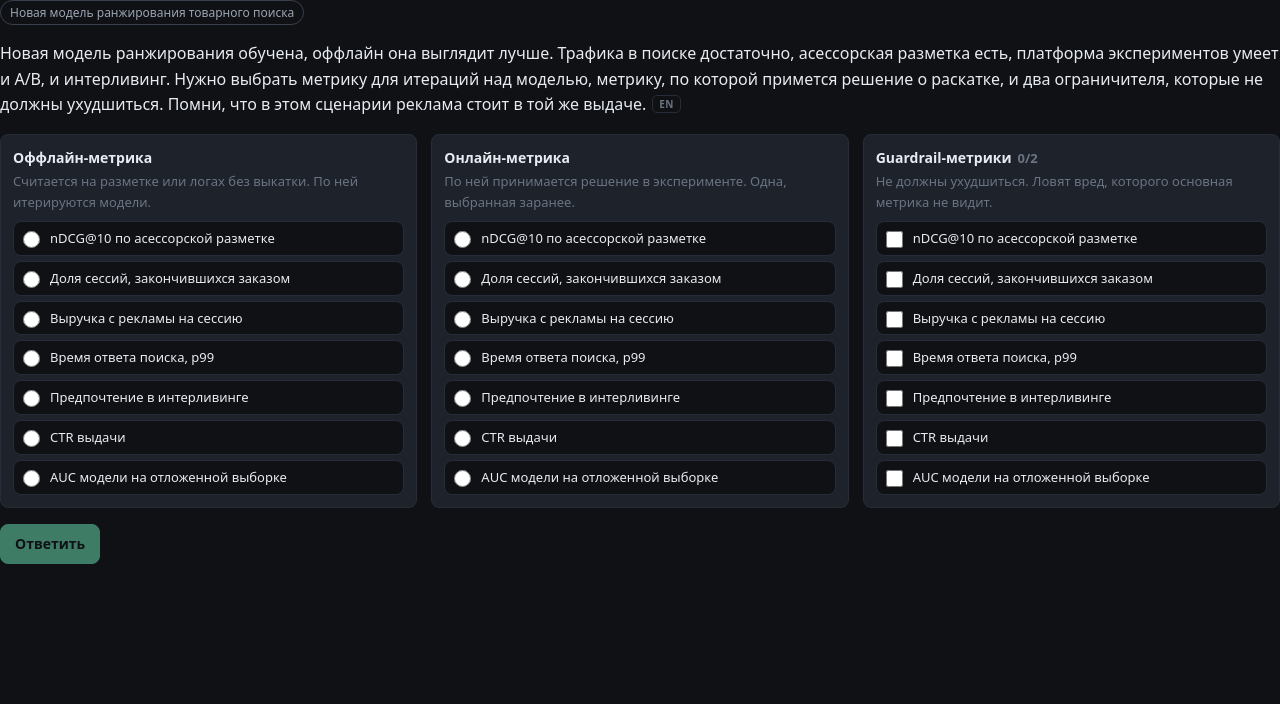
Test case: metric choice trainer › rejects a distractor and explains every option afterwards
The width and height of the screenshot is (1280, 704).
What coordinates should you click on to do the following:
click the radio button labelled "Предпочтение в интерливинге" below "Оффлайн-метрика"
I would click on:
 (32, 399)
Its box is [23,390,40,407].
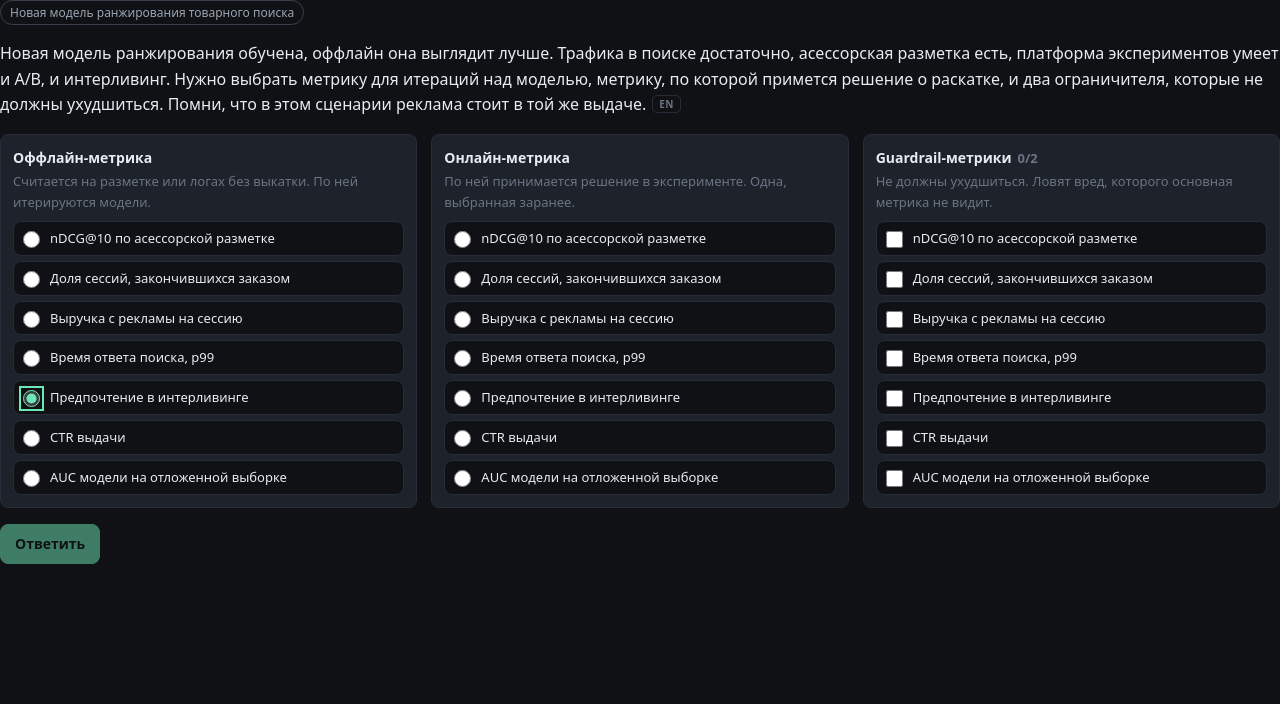
What coordinates should you click on to do the following:
click the radio button labelled "Доля сессий, закончившихся заказом" below "Онлайн-метрика"
I would click on:
 (463, 279)
Its box is [454,271,471,288].
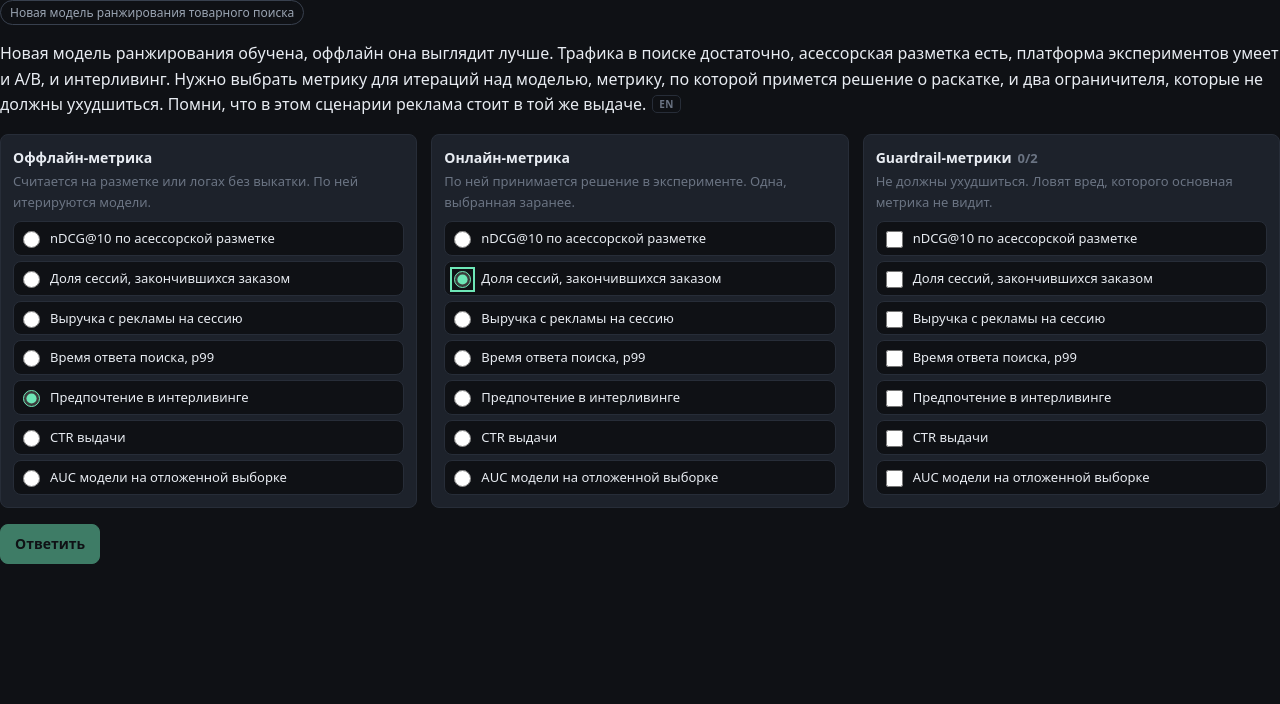
What coordinates should you click on to do the following:
click the checkbox labelled "Выручка с рекламы на сессию"
I would click on:
 (894, 319)
Its box is [886,310,903,328].
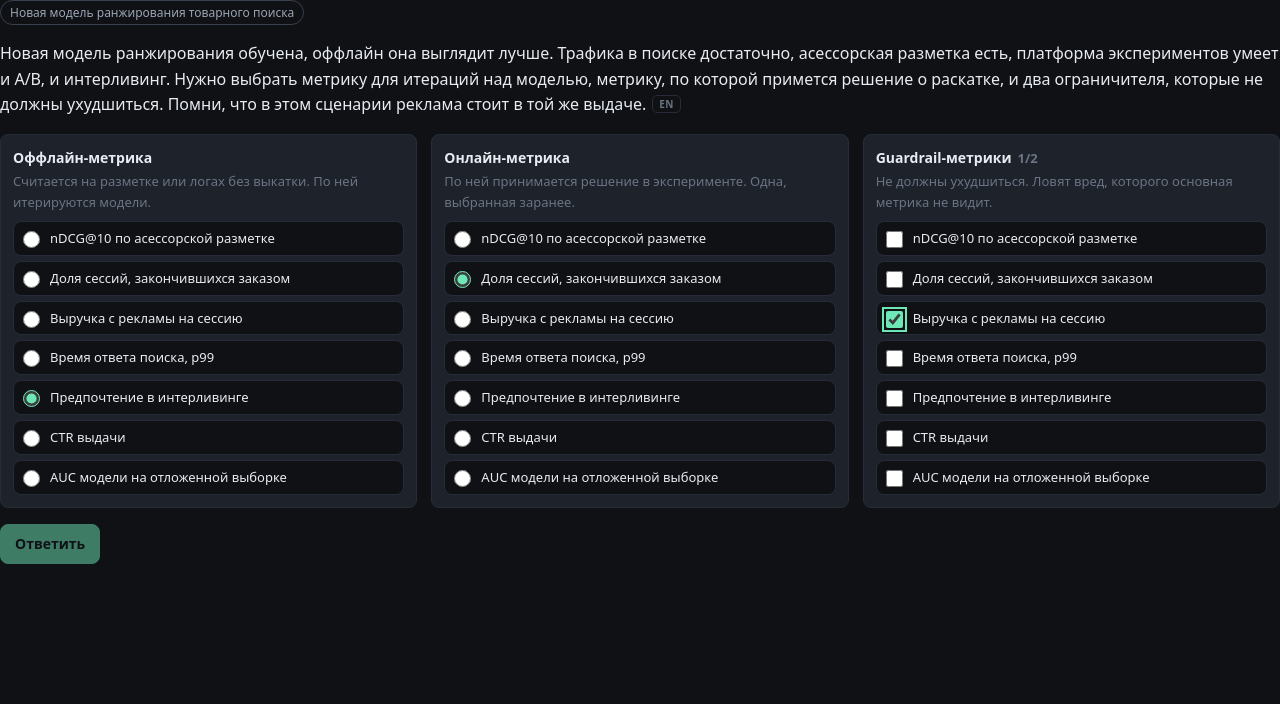
What coordinates should you click on to do the following:
click the checkbox labelled "Время ответа поиска, p99"
I would click on:
 (894, 359)
Its box is [886,350,903,367].
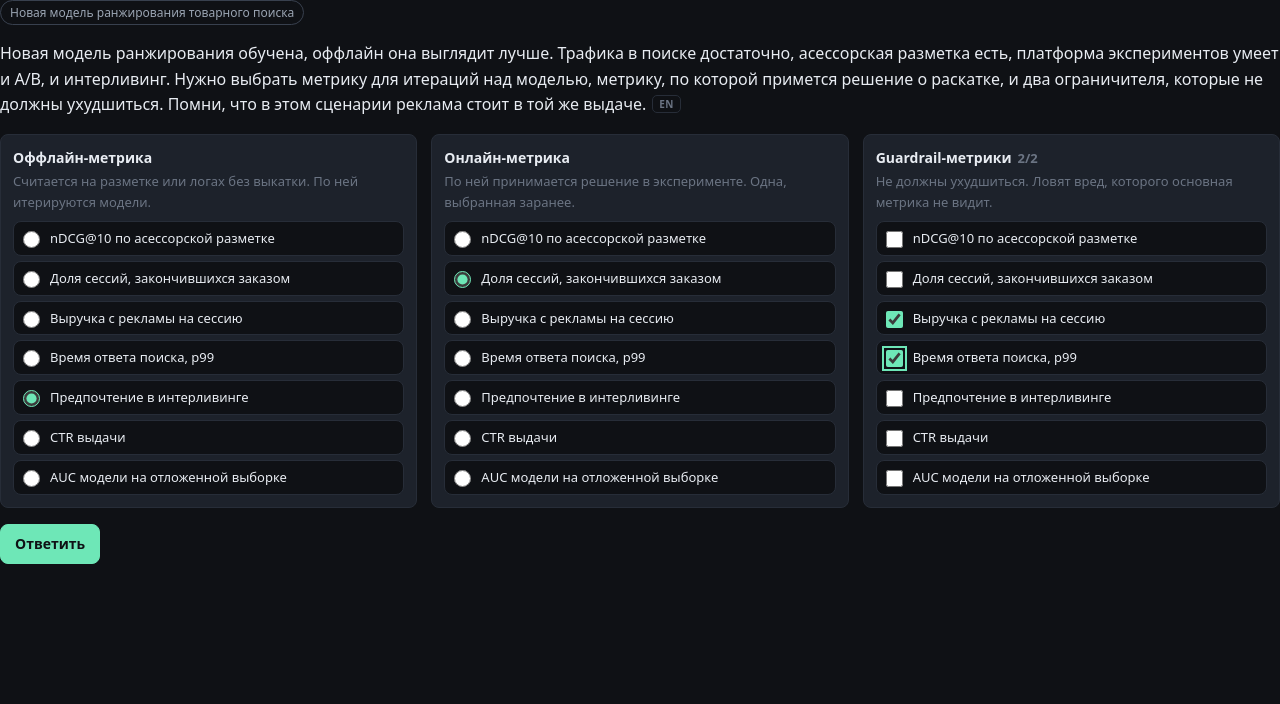
What coordinates should you click on to do the following:
click the button "Ответить"
I would click on:
 (50, 544)
Its box is [0,524,100,564].
(page scrolled)
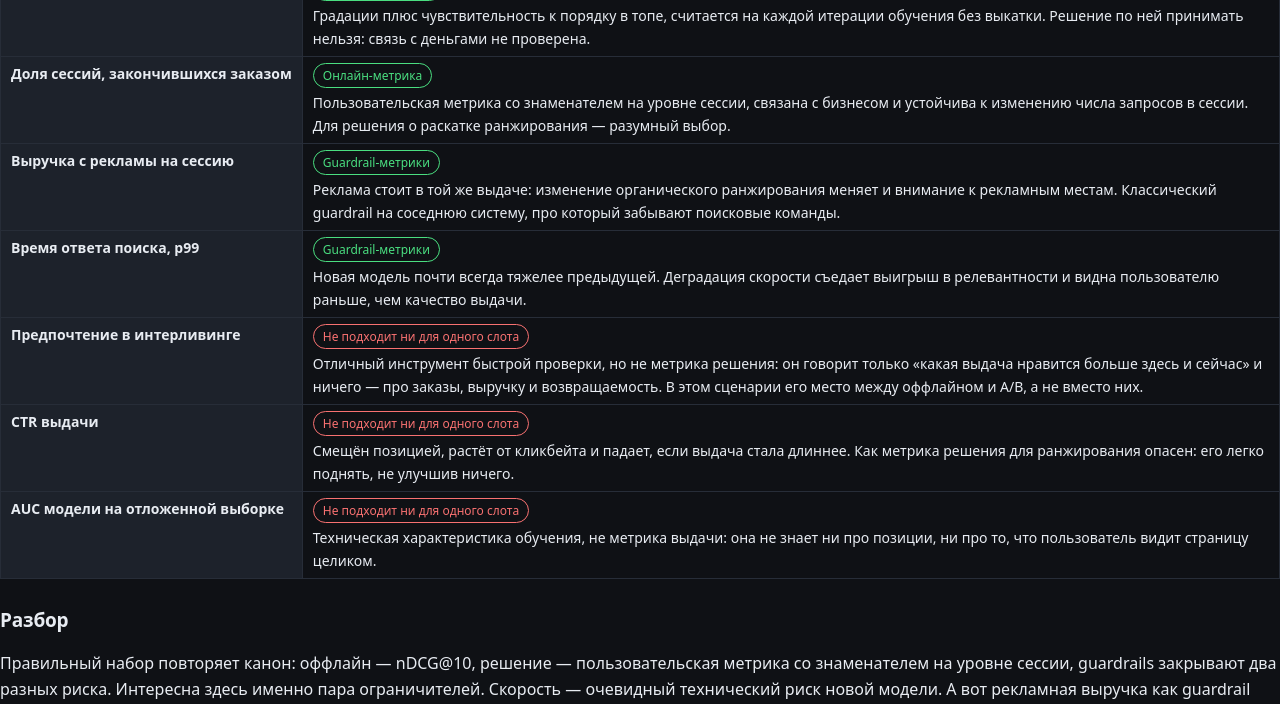
Check: the text "Отличный инструмент быстрой проверки, но не метрика решения: он говорит только «какая выдача нравится больше здесь и сей" is shown, box [313,354,1262,396]
